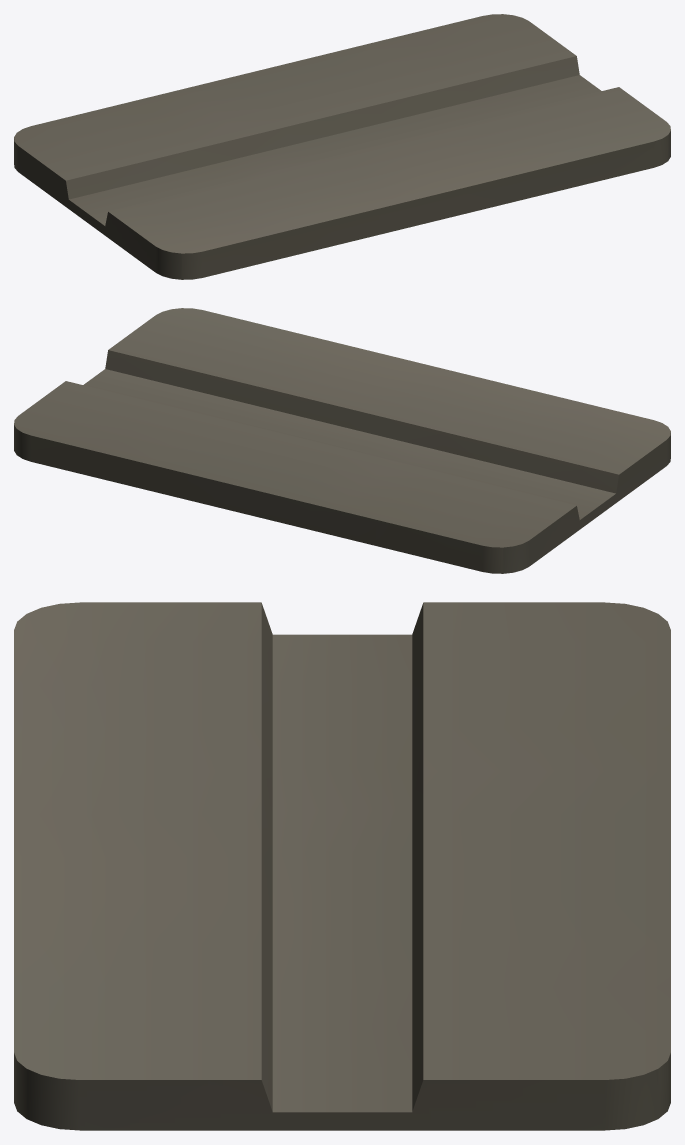
The model's file is Platform_Rect_MidGap.fbx.
3 views of the same model, one above another, from view 1: azimuth 30°, elevation 25°; view 2: azimuth 150°, elevation 25°; view 3: azimuth 270°, elevation 25° (orthographic). The views are drawn at different scales.
Visible parts, largest first — view 1: Platform_Rect_MidGap; view 2: Platform_Rect_MidGap; view 3: Platform_Rect_MidGap.
Part boxes in pixels (x1,y1,x2,y2): Platform_Rect_MidGap: (14,14,670,279); Platform_Rect_MidGap: (14,308,670,573); Platform_Rect_MidGap: (14,602,670,1130).
Bounding box in the file's own units: 746 × 36.68 × 433.
